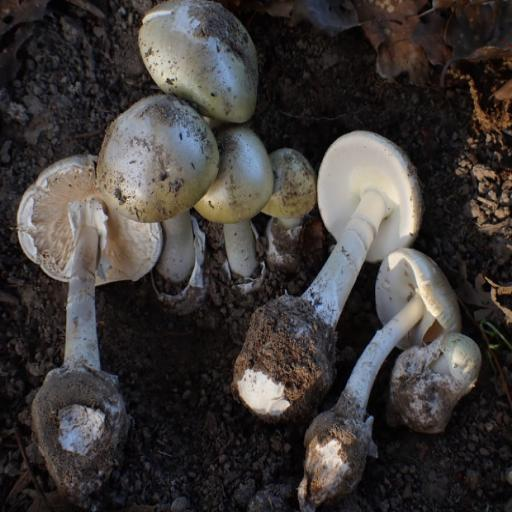mushroom: (0, 138, 178, 326), (69, 76, 242, 247), (302, 119, 436, 273), (132, 0, 264, 124), (184, 121, 283, 279), (356, 235, 469, 358), (260, 146, 322, 223)
